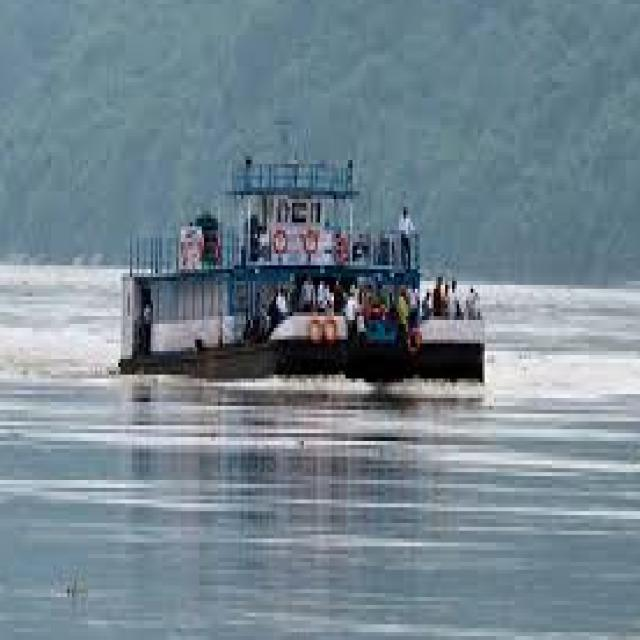fishing boat: (114, 125, 491, 383)
